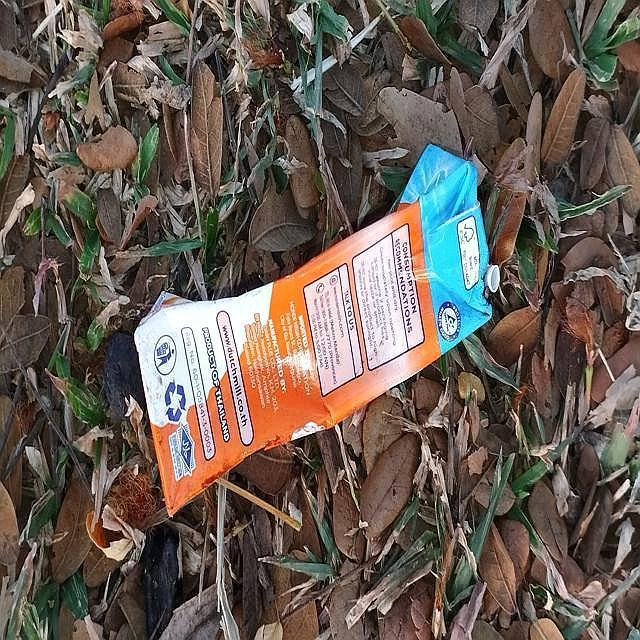Biodegradable: (130, 130, 508, 526)
